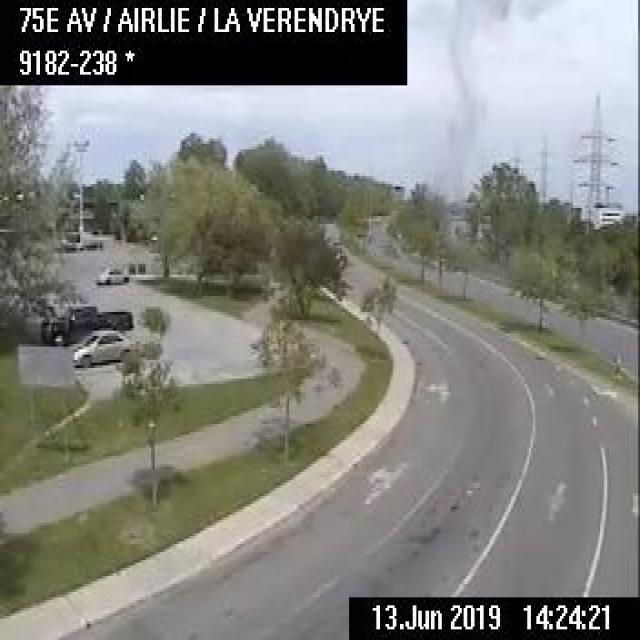vehicle: (42, 303, 132, 343), (72, 328, 132, 366), (94, 264, 126, 285)
